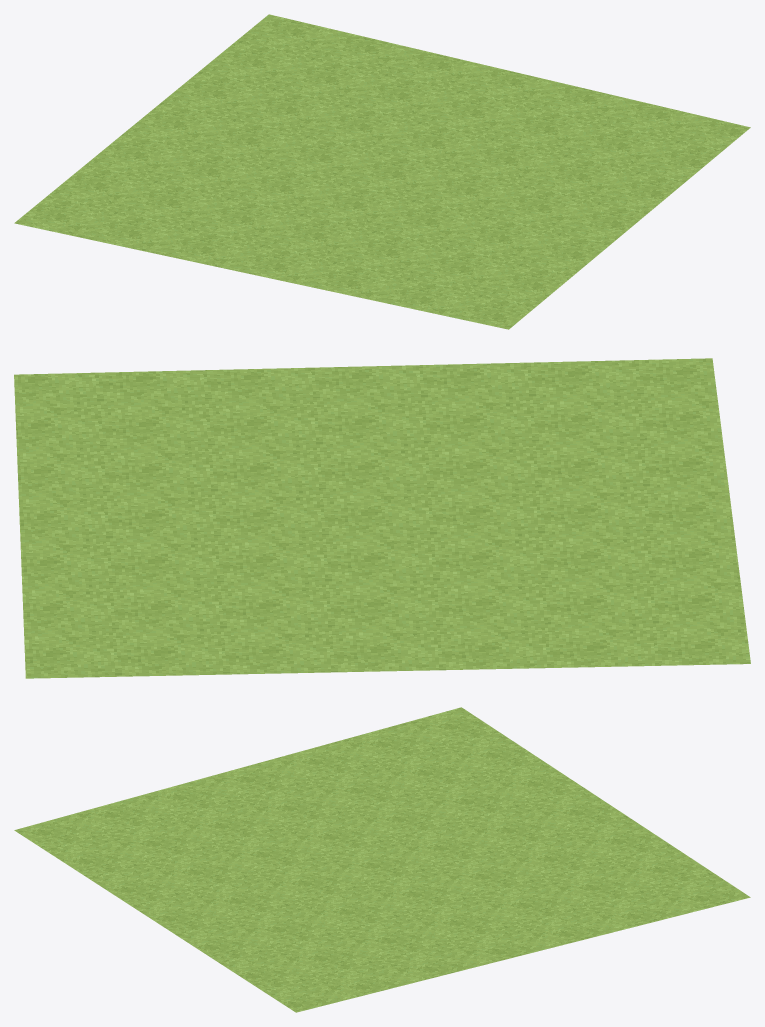
Rendered from kd_connection_world-outer_surface_5_2.glb.
3 views of the same model, one above another, from view 1: azimuth 30°, elevation 25°; view 2: azimuth 150°, elevation 25°; view 3: azimuth 270°, elevation 25° (orthographic). The views are drawn at different scales.
Visible parts, largest first — view 1: kd_connection_world-outer_surface_5_2; view 2: kd_connection_world-outer_surface_5_2; view 3: kd_connection_world-outer_surface_5_2.
Boxes of the visible parts, x1,y1,x2,y2 form: kd_connection_world-outer_surface_5_2: [14, 14, 750, 329]; kd_connection_world-outer_surface_5_2: [14, 358, 750, 678]; kd_connection_world-outer_surface_5_2: [14, 707, 750, 1012].
Bounding box in the file's own units: 77.1 × 0 × 78.61.
1 material, 1 textured.
